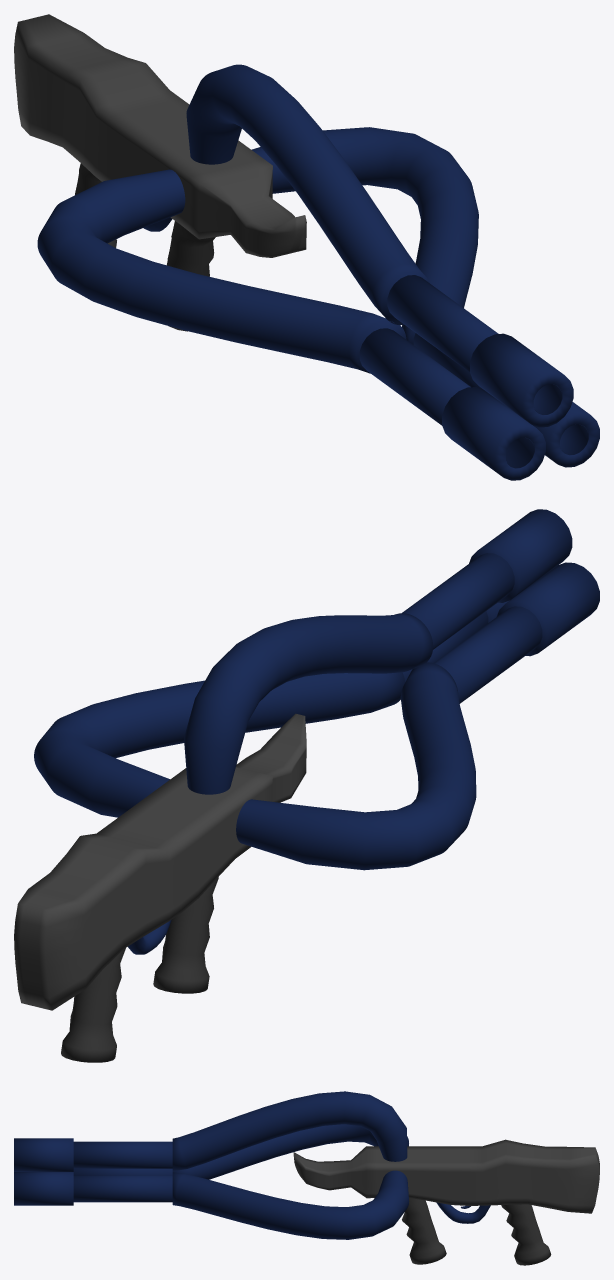
The model's file is metralhadora3.fbx.
The picture shows the model from 3 angles, top to bottom: view 1: azimuth 30°, elevation 25°; view 2: azimuth 150°, elevation 25°; view 3: azimuth 270°, elevation 25°; orthographic projection. The views are drawn at different scales.
Visible parts, largest first — view 1: Metralhadora.001; view 2: Metralhadora.001; view 3: Metralhadora.001.
Part boxes in pixels (<box>): Metralhadora.001: <box>14,14,599,480</box>; Metralhadora.001: <box>14,509,599,1062</box>; Metralhadora.001: <box>14,1091,599,1265</box>.
Size of the model in its own units: 86.5 by 61.31 by 192.
